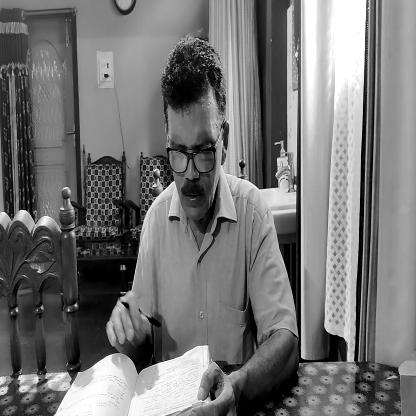Normal: (162, 38, 225, 222)
